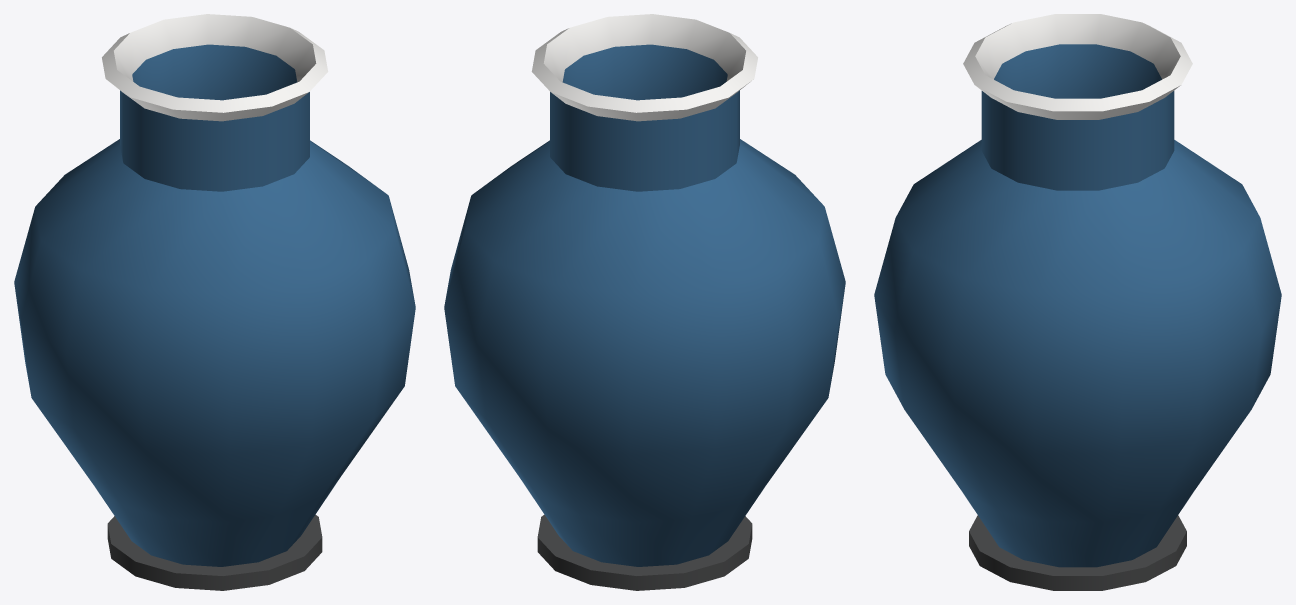
File: SM_pottery_arabian_003.fbx
3 views of the same model, side by side, from view 1: azimuth 30°, elevation 25°; view 2: azimuth 150°, elevation 25°; view 3: azimuth 270°, elevation 25° (orthographic).
Parts seen in each view (by area): view 1: Object004; view 2: Object004; view 3: Object004.
Part boxes in pixels (left/top/right/bottom): Object004: left=14, top=14, right=415, bottom=590; Object004: left=444, top=14, right=845, bottom=590; Object004: left=874, top=14, right=1281, bottom=590.
Size of the model in its own units: 19.55 by 20.05 by 26.58.
